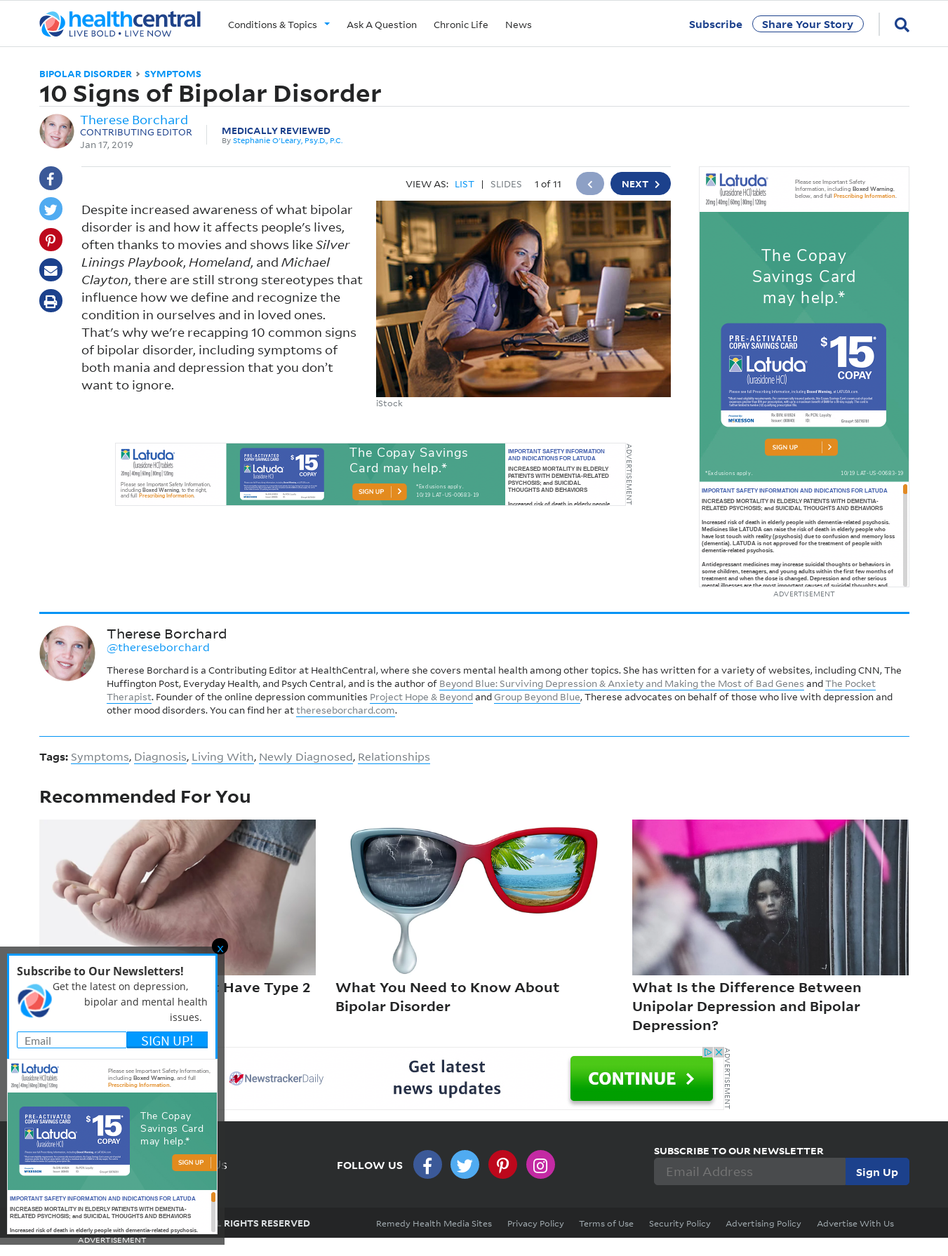fake_button: (565, 1048, 724, 1104), (751, 435, 844, 468), (348, 482, 410, 502)
